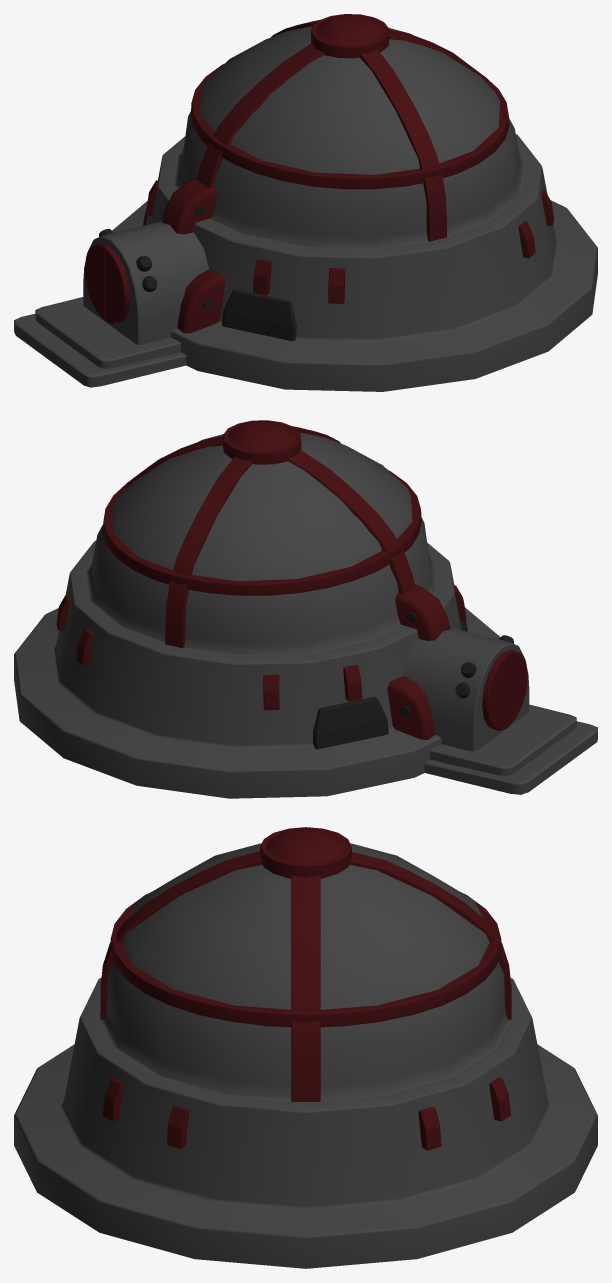
The model's file is colony_Farm.glb.
The picture shows the model from 3 angles, top to bottom: view 1: azimuth 30°, elevation 25°; view 2: azimuth 150°, elevation 25°; view 3: azimuth 270°, elevation 25°; orthographic projection. The views are drawn at different scales.
Visible parts, largest first — view 1: Farm; view 2: Farm; view 3: Farm.
Boxes of the visible parts, box(x1,y1,x2,y2) form: Farm: box(14, 14, 597, 391); Farm: box(14, 420, 597, 798); Farm: box(14, 827, 597, 1268).
Bounding box in the file's own units: 1657 × 814 × 1390.
1 material, 1 textured.
